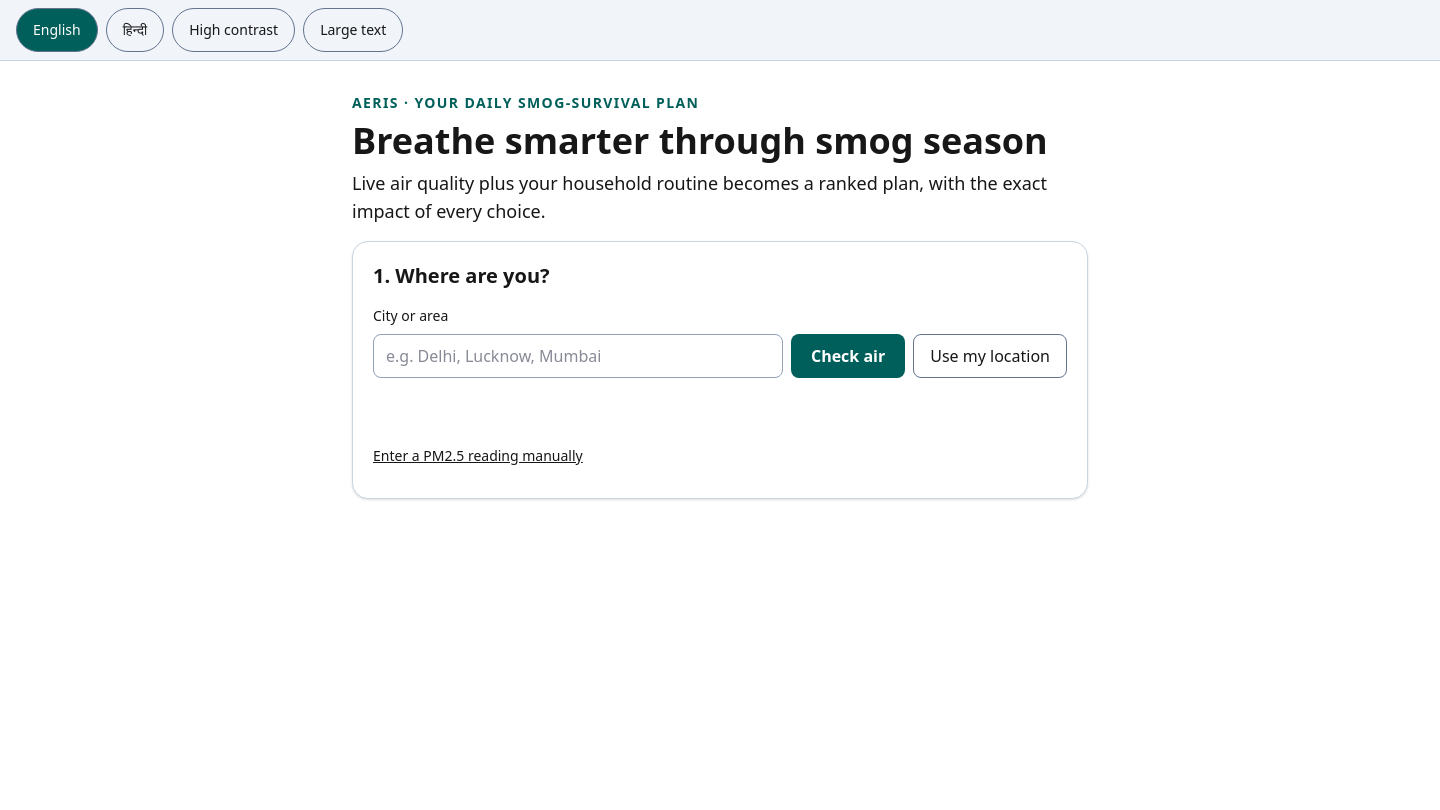
plan follow-ups › regenerates the explanation when the language changes
Type "Delhi" into the field labelled "City or area". click: (578, 356)
box: [373,334,783,378]
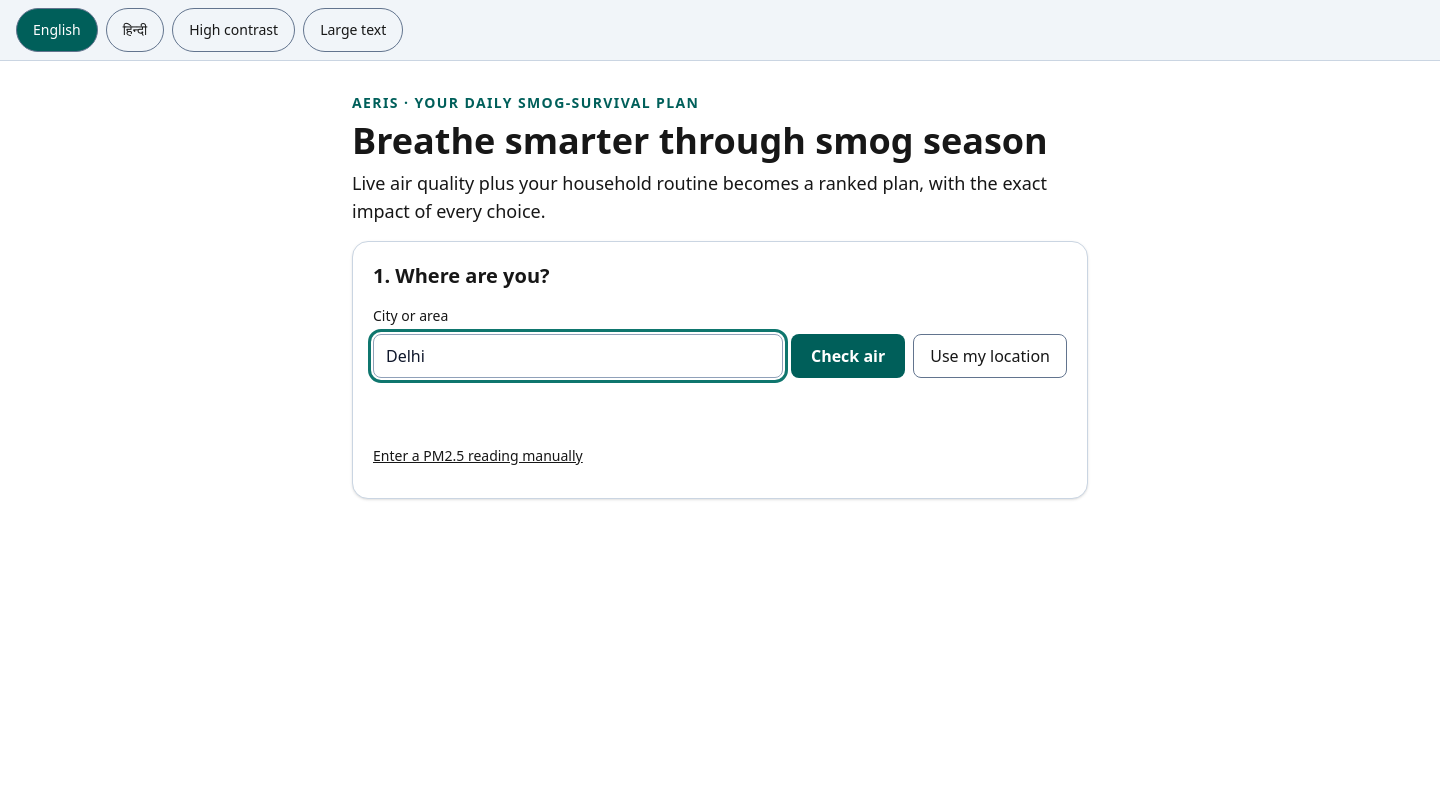
Click the button "Check air". click: (848, 356)
box: [791,334,905,378]
(page scrolled)
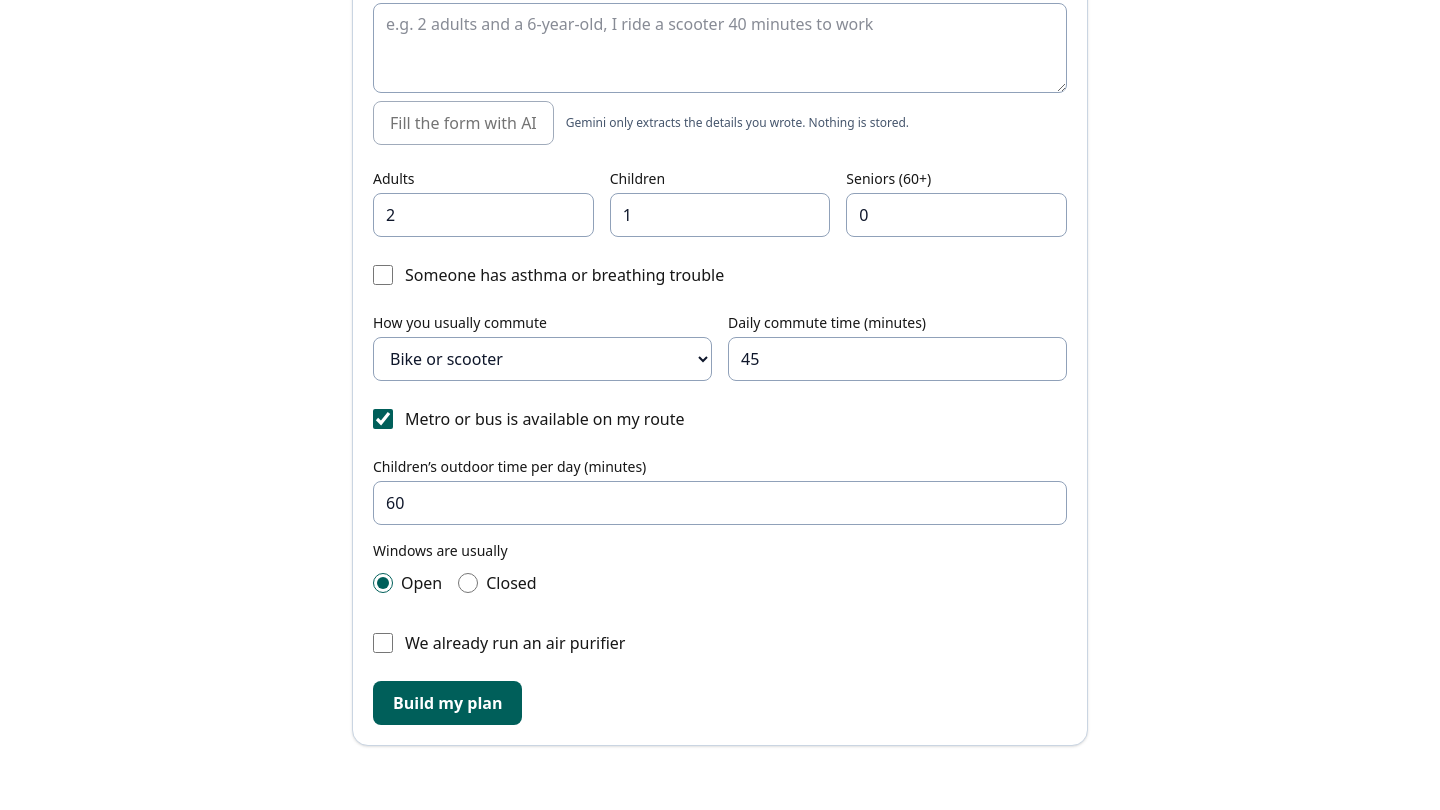
Click the button "Build my plan". click: (448, 702)
box: [373,680,522,724]
(page scrolled)
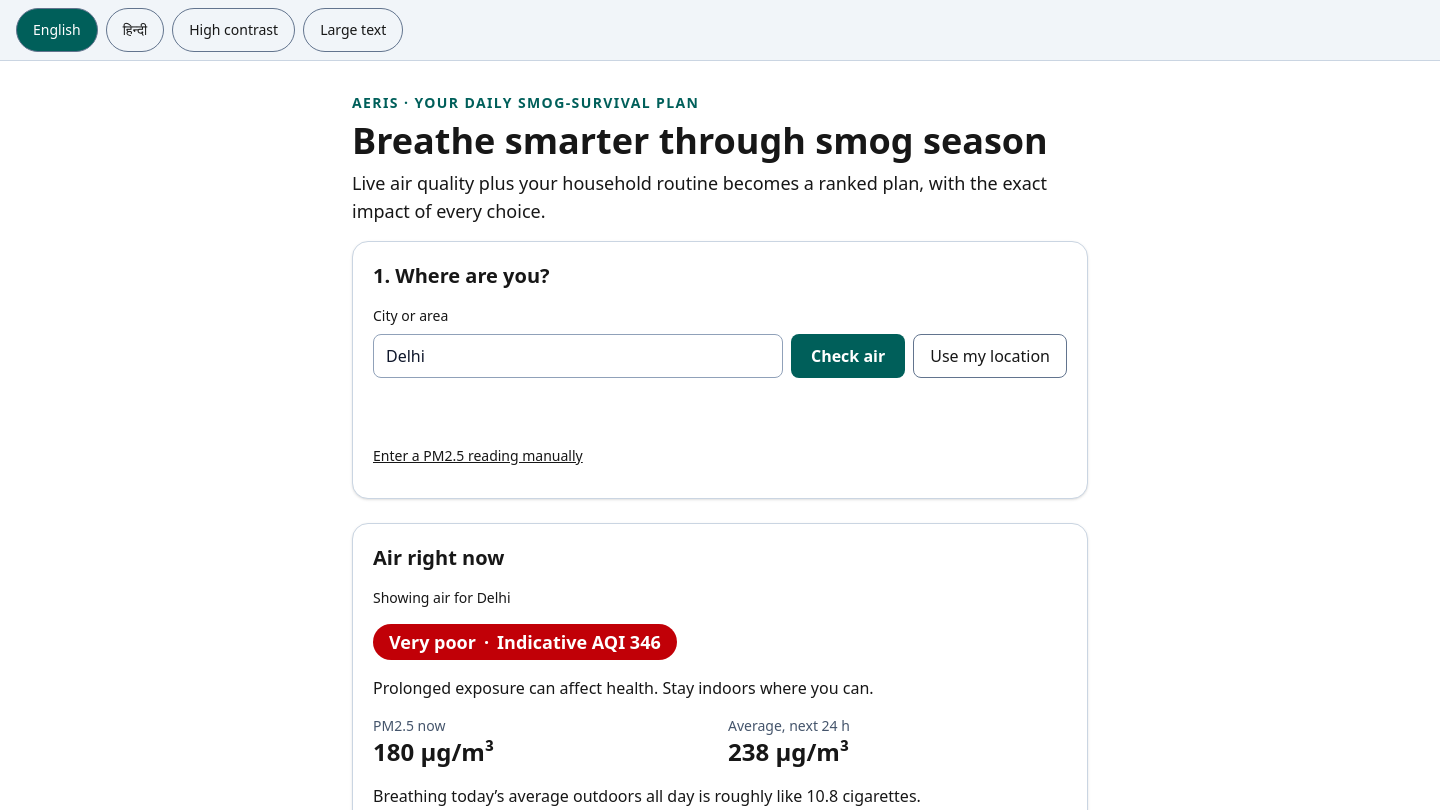
Click the button "हिन्दी". click: (135, 30)
box: [106,8,164,52]
(page scrolled)
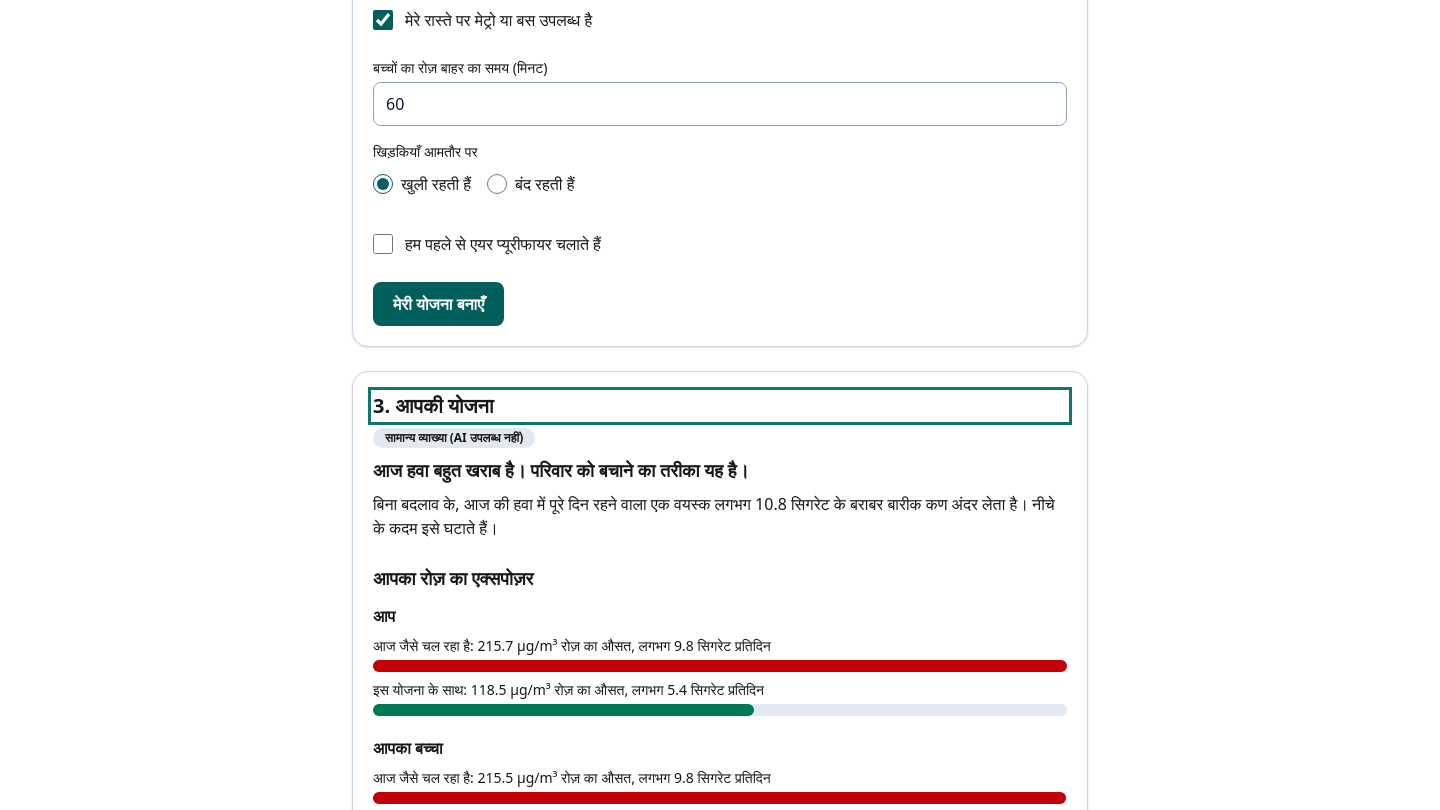
Expected: the heading "3. आपकी योजना" is shown, [373,392,494,418]
